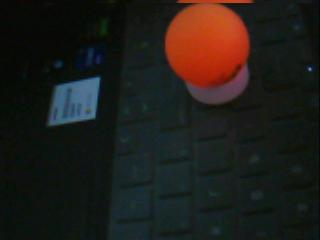oball: (164, 4, 250, 88)
